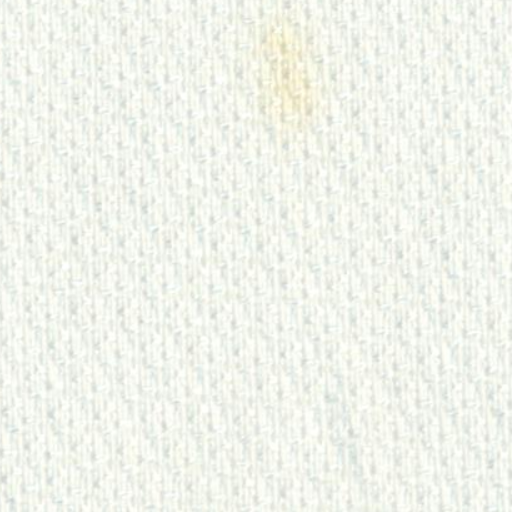WuZi: (217, 6, 345, 159)
